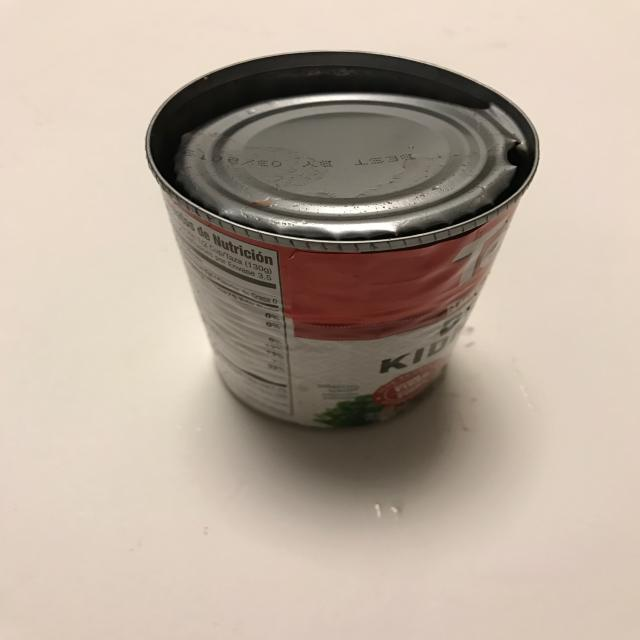metal: (141, 49, 543, 436)
